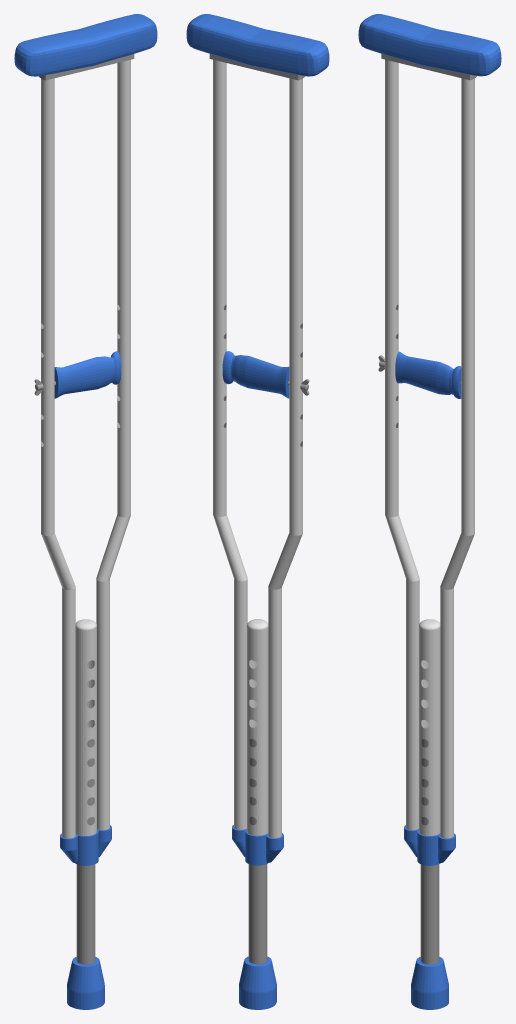
The model's file is béquille.fbx.
3 views of the same model, side by side, from view 1: azimuth 30°, elevation 25°; view 2: azimuth 150°, elevation 25°; view 3: azimuth 330°, elevation 25° (orthographic).
Parts seen in each view (by area): view 1: Manche, Cube.001, Régleur taille, Pied bas, Poignée bas, Gomme bas, Jointure manche, Jointure centrale, Cube; view 2: Manche, Cube.001, Régleur taille, Pied bas, Poignée bas, Gomme bas, Jointure manche, Jointure centrale, Cube; view 3: Manche, Cube.001, Régleur taille, Pied bas, Poignée bas, Gomme bas, Jointure manche, Jointure centrale, Cube.
Part boxes in pixels (x1=…): Manche: x1=41, y1=59, x2=130, y2=838; Cube.001: x1=14, y1=14, x2=157, y2=76; Régleur taille: x1=75, y1=619, x2=96, y2=835; Pied bas: x1=76, y1=726, x2=95, y2=964; Poignée bas: x1=54, y1=351, x2=121, y2=398; Gomme bas: x1=67, y1=957, x2=104, y2=1009; Jointure manche: x1=60, y1=825, x2=111, y2=862; Jointure centrale: x1=75, y1=829, x2=98, y2=865; Cube: x1=39, y1=54, x2=134, y2=80; Manche: x1=213, y1=59, x2=302, y2=838; Cube.001: x1=186, y1=14, x2=329, y2=76; Régleur taille: x1=247, y1=619, x2=268, y2=835; Pied bas: x1=248, y1=726, x2=267, y2=964; Poignée bas: x1=222, y1=351, x2=289, y2=398; Gomme bas: x1=239, y1=956, x2=276, y2=1009; Jointure manche: x1=232, y1=825, x2=283, y2=862; Jointure centrale: x1=245, y1=829, x2=268, y2=865; Cube: x1=209, y1=54, x2=305, y2=80; Manche: x1=385, y1=59, x2=474, y2=838; Cube.001: x1=358, y1=14, x2=501, y2=76; Régleur taille: x1=419, y1=619, x2=440, y2=835; Pied bas: x1=420, y1=726, x2=439, y2=964; Poignée bas: x1=395, y1=351, x2=461, y2=398; Gomme bas: x1=411, y1=957, x2=448, y2=1009; Jointure manche: x1=404, y1=825, x2=455, y2=862; Jointure centrale: x1=417, y1=829, x2=440, y2=865; Cube: x1=381, y1=53, x2=476, y2=80.
Bounding box in the file's own units: 67.16 × 462 × 16.41.
